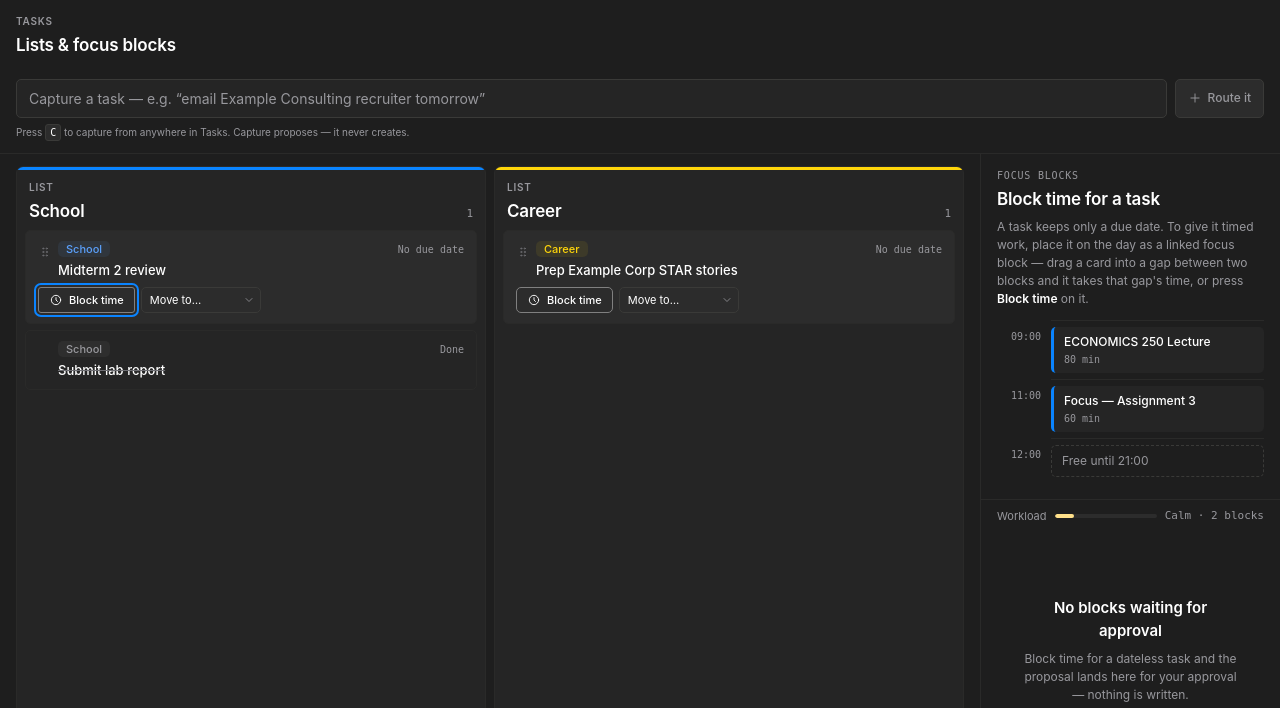
Test: Block time from the keyboard › moves focus into the form, and Esc cancels back to the button that opened it
Click the button with aria-label "Block time for Midterm 2 review": point(86, 300) [38, 287, 135, 313]
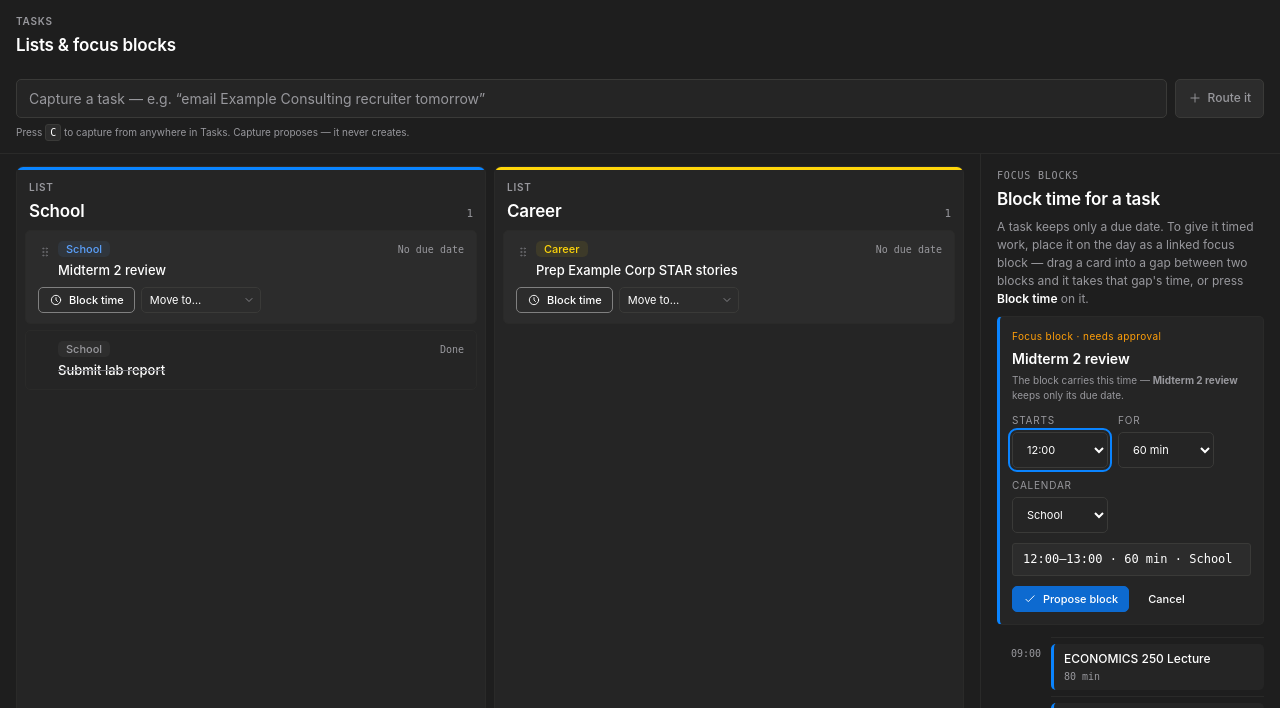
Press Escape in the dropdown labelled "Starts", box [1012, 432, 1108, 468]
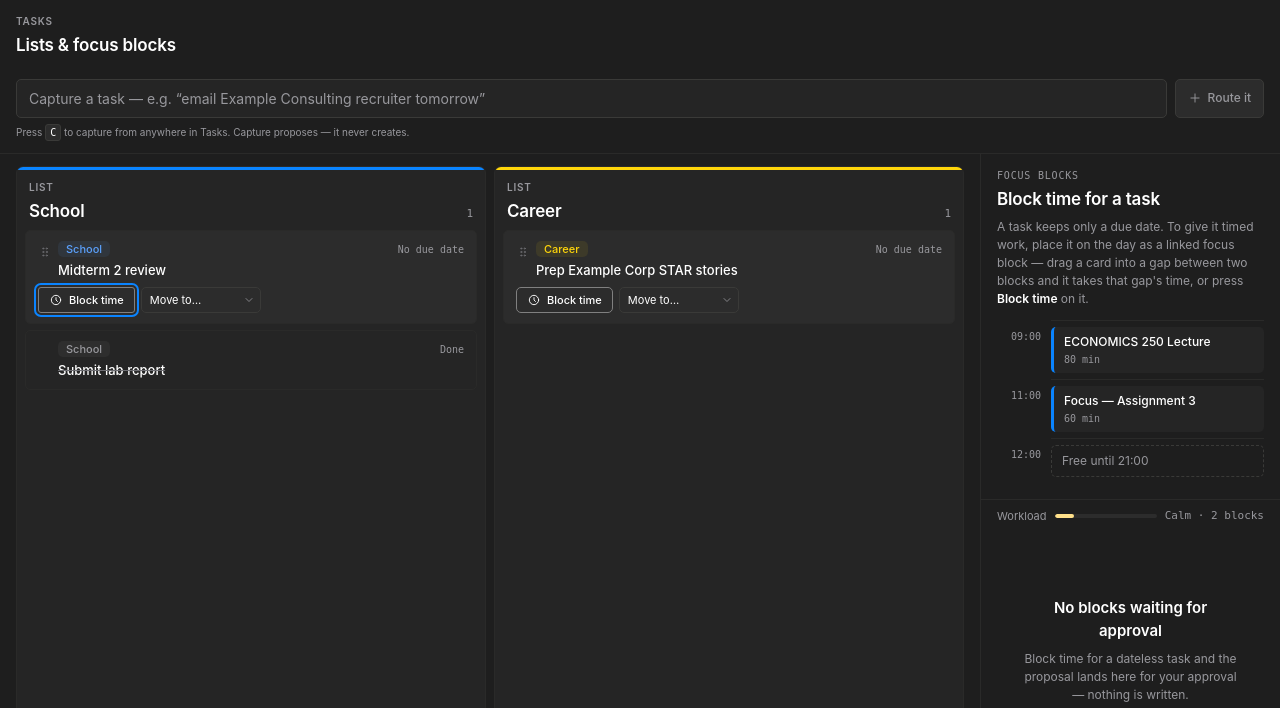
Expected: the form with class "compose" is gone
